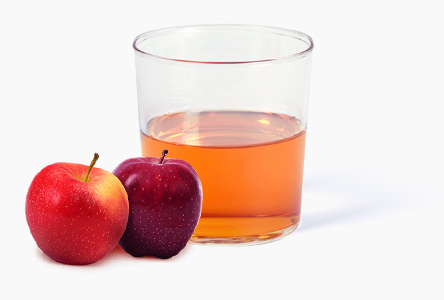elma: (28, 159, 129, 267), (122, 159, 204, 259)
